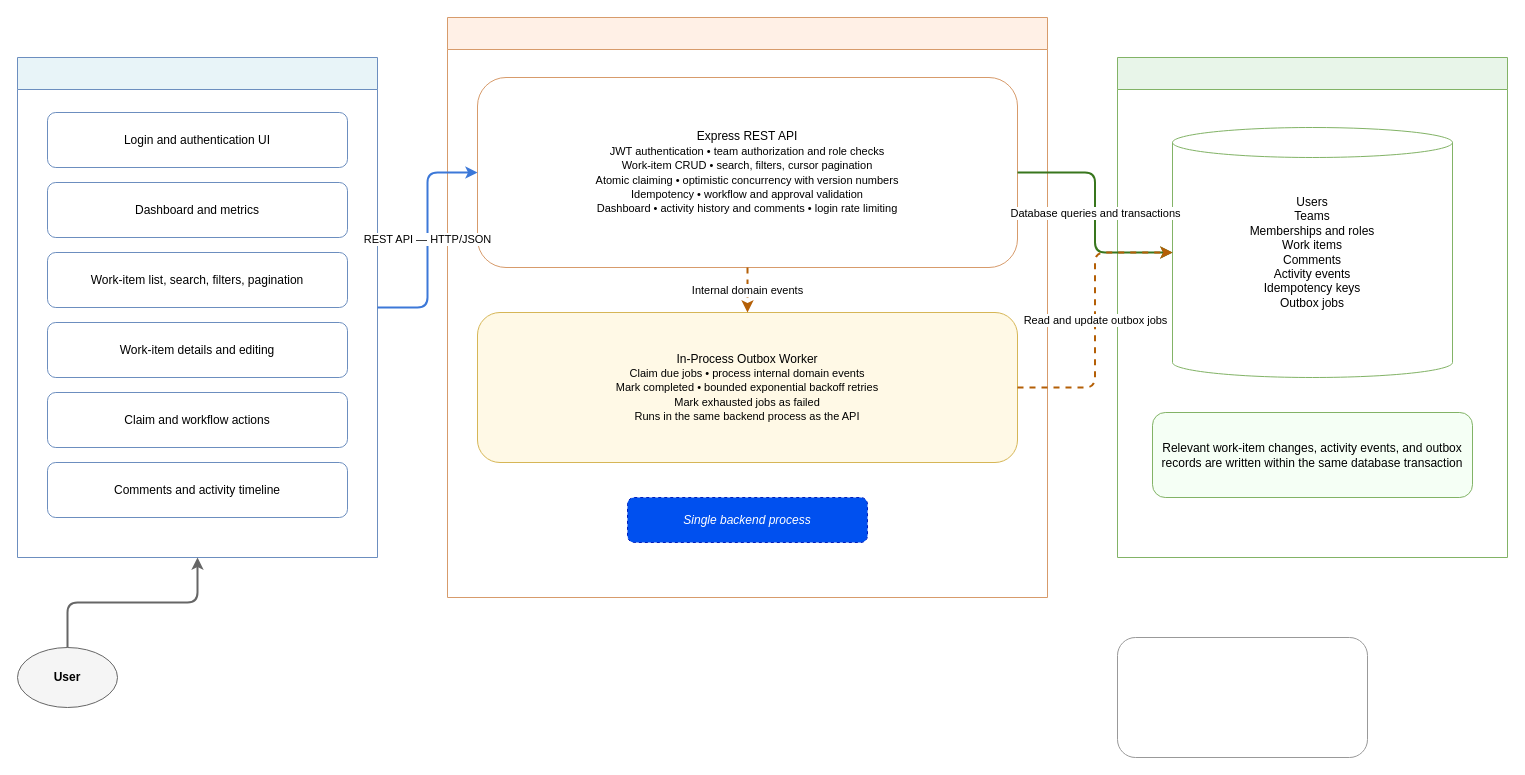
The diagram is 1525 pixels wide and 775 high, and some of its shapes have lost their labels. The shapes that lost their labels are listed below. From the top down, each one's box as (x1, y1, x2, y2) in pixels, then its label:
(16, 56, 378, 558): Frontend — React +amp; Vite
(446, 16, 1048, 598): Backend API — Node.js + Express + TypeScript
(1116, 56, 1508, 558): PostgreSQL — Accessed through Prisma
(1116, 636, 1368, 758): Legend ━━ HTTP requests ━━ Database operations ╌╌ Async outbox processing
